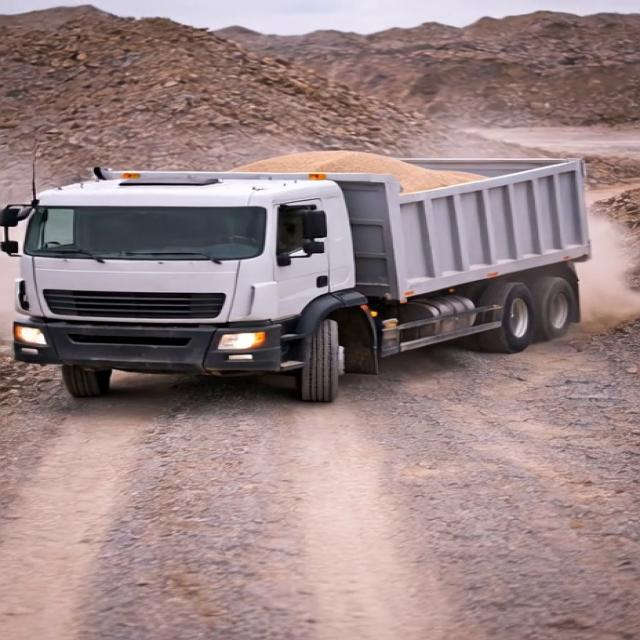trailer: (100, 147, 583, 184)
truck: (12, 126, 619, 399)
